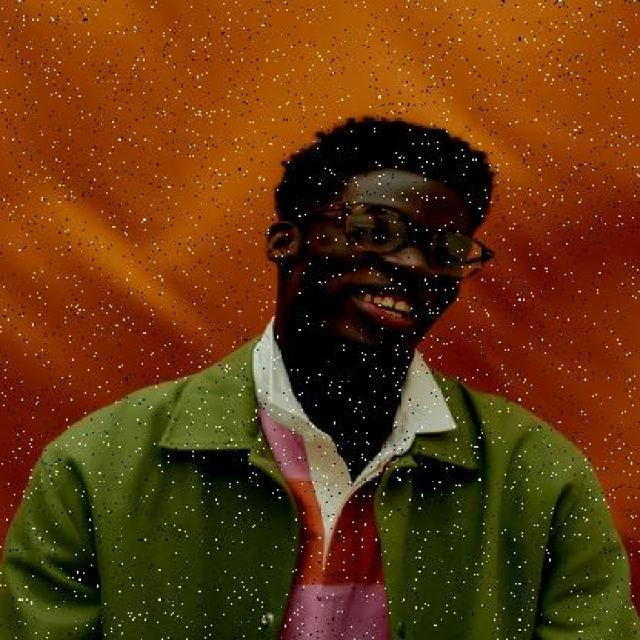glasses: (322, 200, 501, 292)
